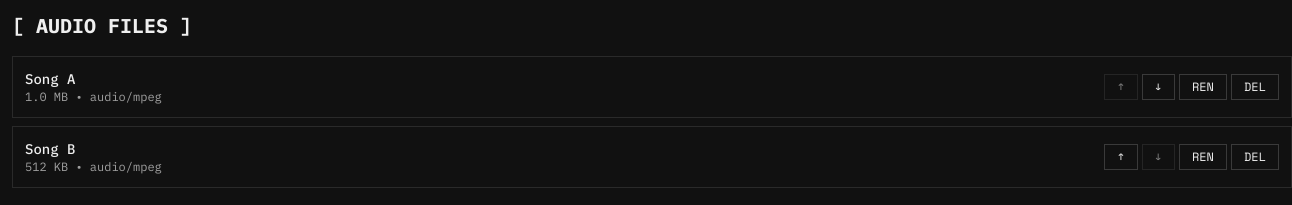
Test case: AudioManager › shows rename input on REN click
Check: the text "Song A" is shown, box 25,70 -> 75,88
Click the button "REN" in the row of "Song A". click: (1203, 87)
box: 1179,74 -> 1227,100
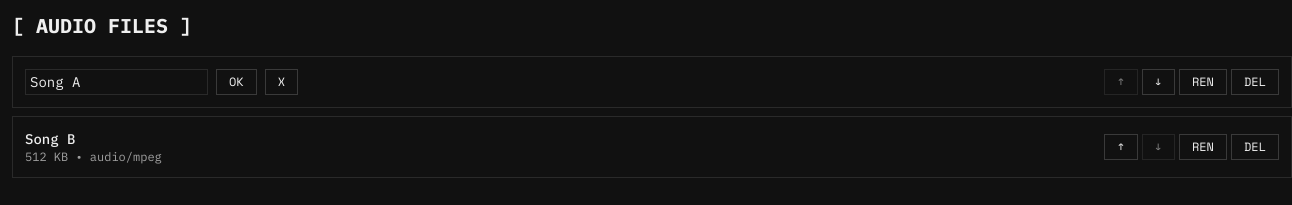
Check: the field named "new title" is shown, box 25,69 -> 208,95
